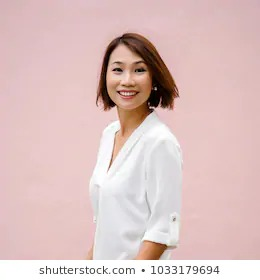S_blouse: (89, 117, 188, 265)
